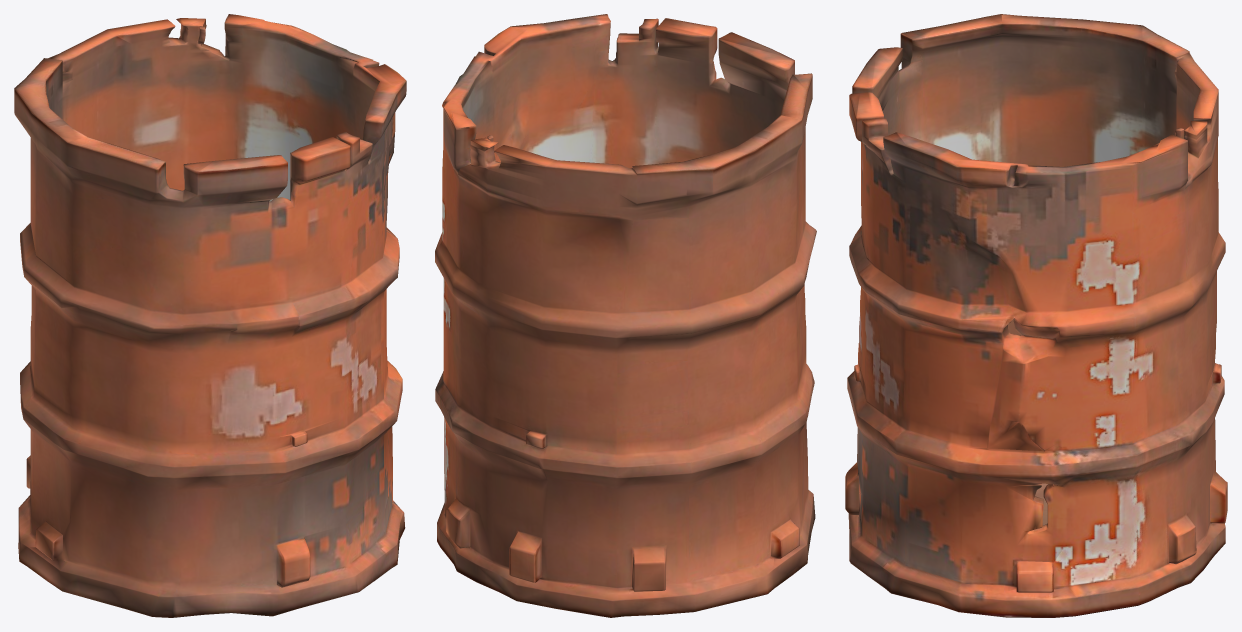
File: fire_barrel.glb
The picture shows the model from 3 angles, left to right: view 1: azimuth 30°, elevation 25°; view 2: azimuth 150°, elevation 25°; view 3: azimuth 270°, elevation 25°; orthographic projection.
Parts seen in each view (by area): view 1: tripo_node_34bb2393-9a45-4a47-b275-433d9bd0b35a; view 2: tripo_node_34bb2393-9a45-4a47-b275-433d9bd0b35a; view 3: tripo_node_34bb2393-9a45-4a47-b275-433d9bd0b35a.
Part boxes in pixels (bbox=[...]): tripo_node_34bb2393-9a45-4a47-b275-433d9bd0b35a: bbox=[14, 14, 406, 617]; tripo_node_34bb2393-9a45-4a47-b275-433d9bd0b35a: bbox=[435, 14, 816, 617]; tripo_node_34bb2393-9a45-4a47-b275-433d9bd0b35a: bbox=[845, 14, 1227, 617].
Bounding box in the file's own units: 0.773 × 1 × 0.773.
Materials: 1 (1 with a texture image).
